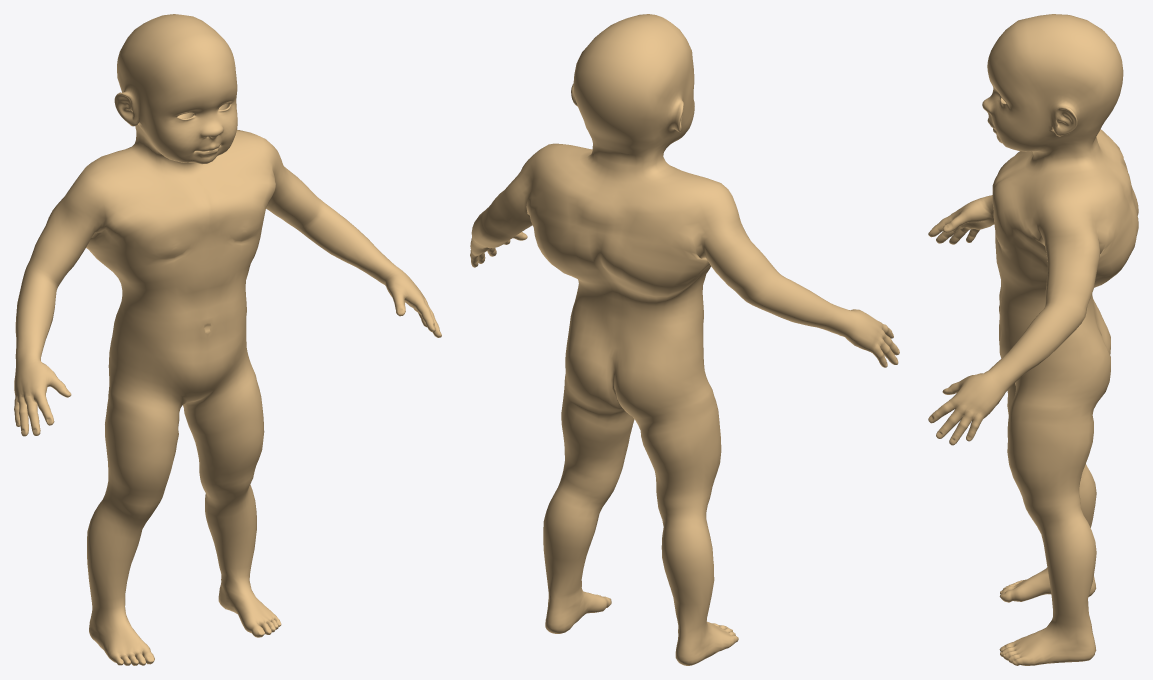
3 views of the same model, side by side, from view 1: azimuth 30°, elevation 25°; view 2: azimuth 150°, elevation 25°; view 3: azimuth 270°, elevation 25° (orthographic).
Visible parts, largest first — view 1: Human; view 2: Human; view 3: Human.
Part boxes in pixels (left/top/right/bottom): Human: left=14, top=14, right=441, bottom=665; Human: left=470, top=14, right=899, bottom=665; Human: left=928, top=14, right=1138, bottom=665.
Size of the model in its own units: 0.5242 by 0.7339 by 0.2298.
